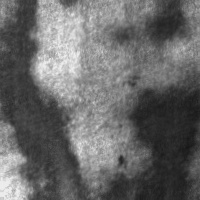patches: (0, 2, 82, 200), (104, 87, 200, 199), (146, 0, 185, 42)
